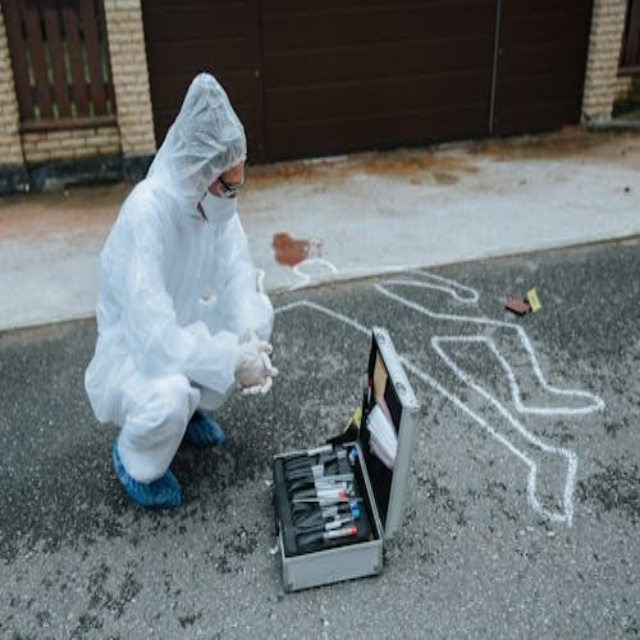Gafas: (218, 166, 246, 194)
Guantes: (234, 335, 279, 395)
Mascara: (199, 179, 240, 226)
